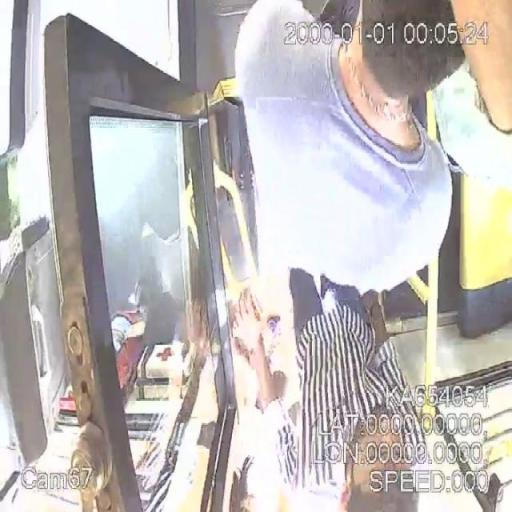persona: (227, 2, 508, 300), (232, 270, 476, 512)
